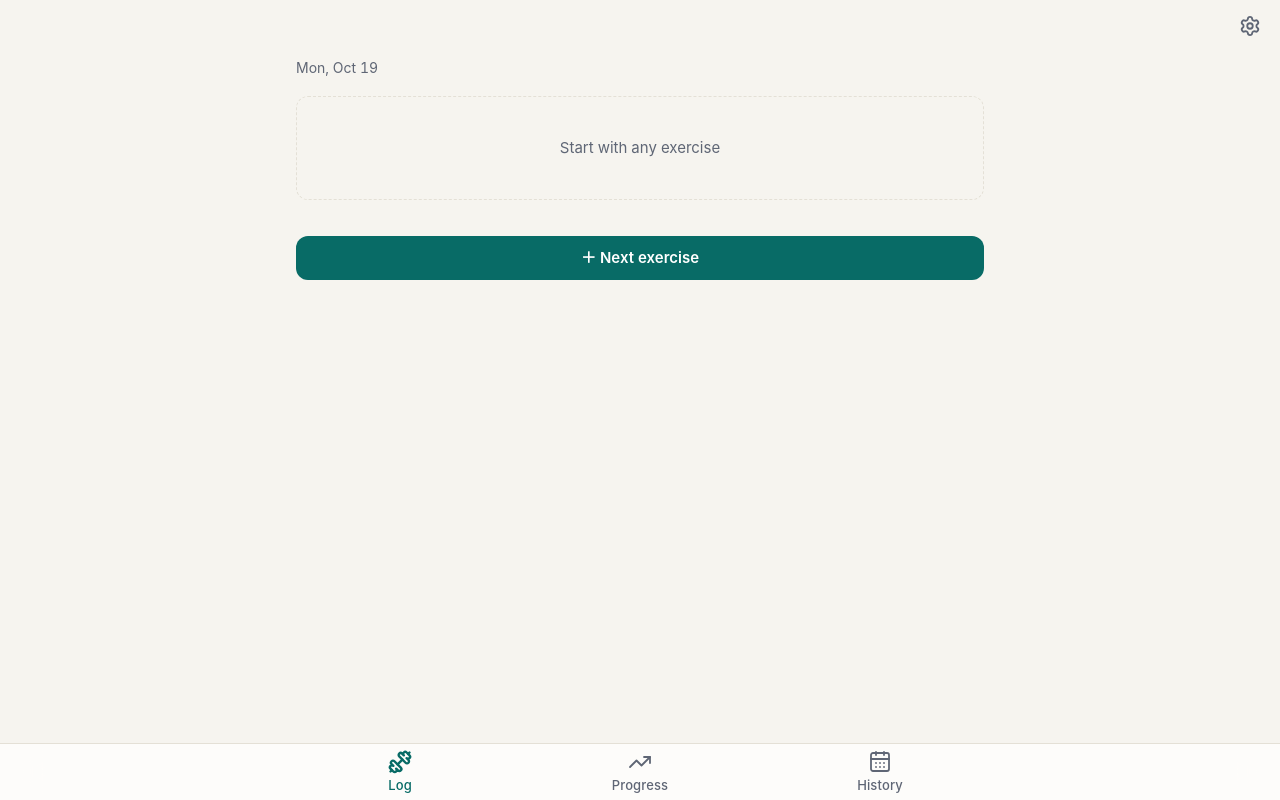
History tab › says so when there's nothing yet
This screenshot has width=1280, height=800.
Click the tab "History": {"x": 880, "y": 772} x1=760 y1=744 x2=1000 y2=799
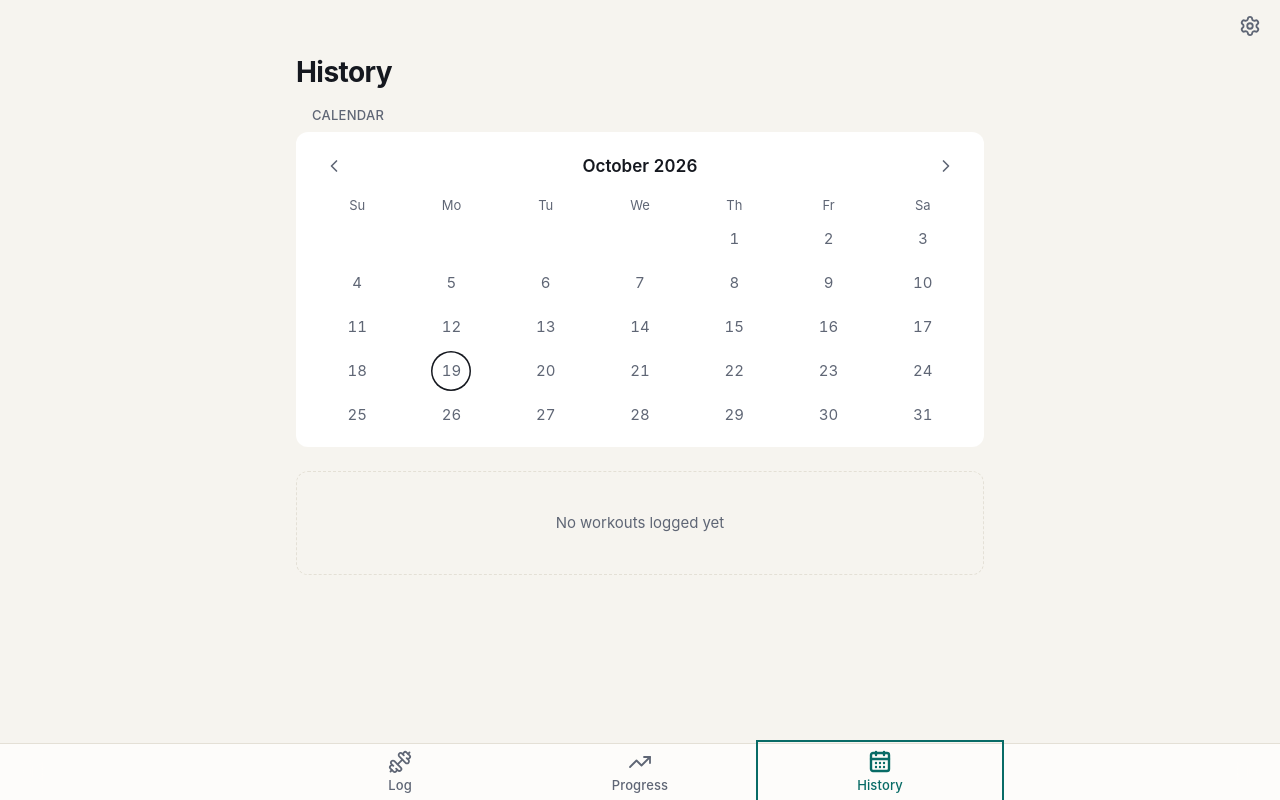
Result: the text "No workouts logged yet" is shown at x1=296 y1=471 x2=984 y2=575
